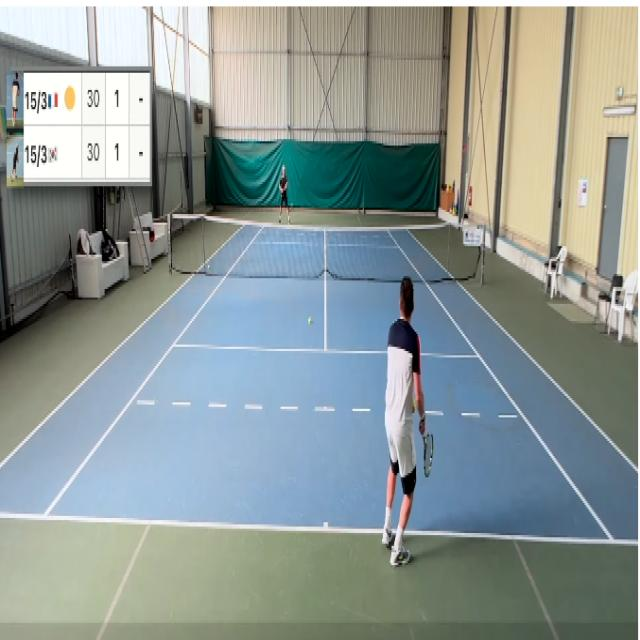ball: (411, 397, 417, 412), (308, 315, 312, 327)
